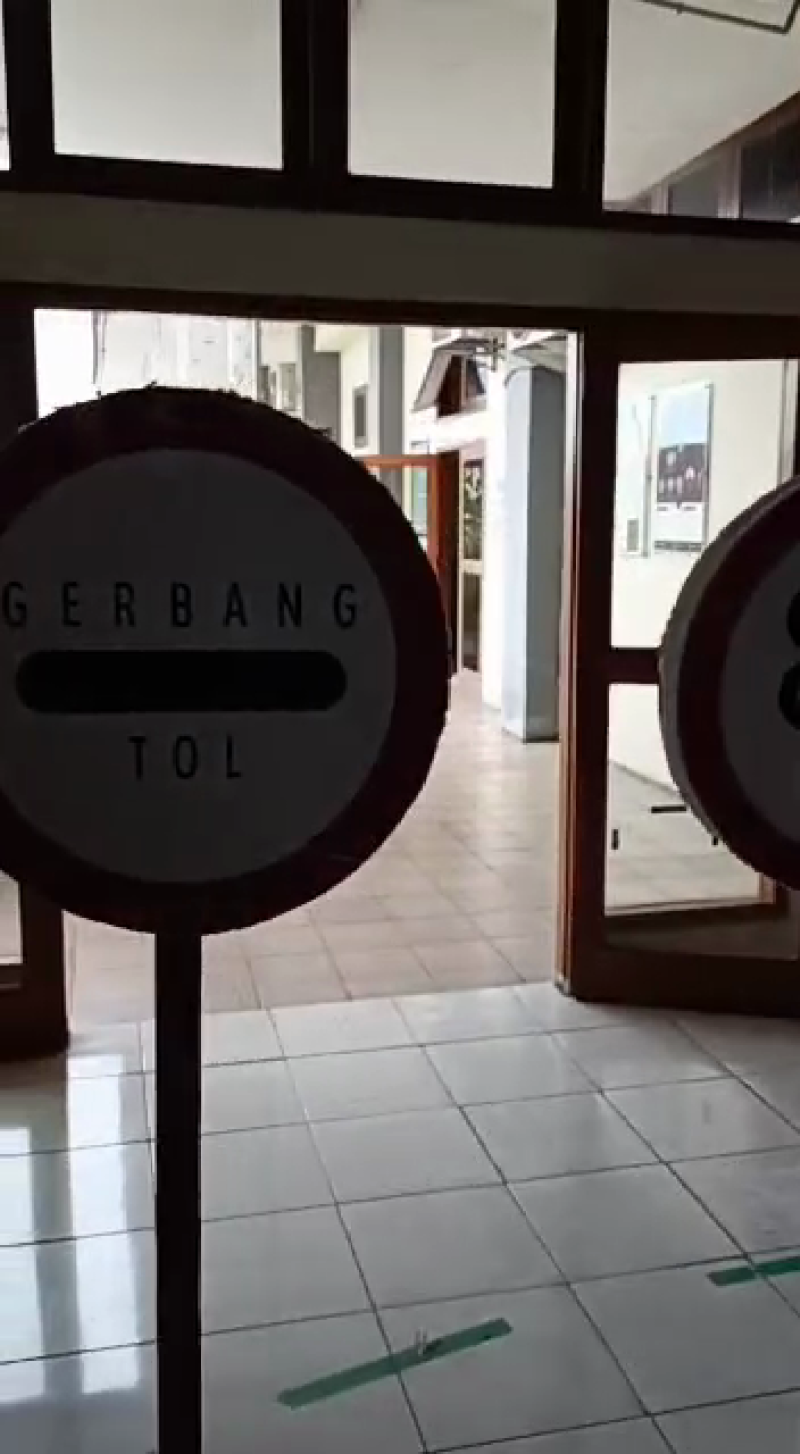gerbang tol: (1, 370, 466, 944)
